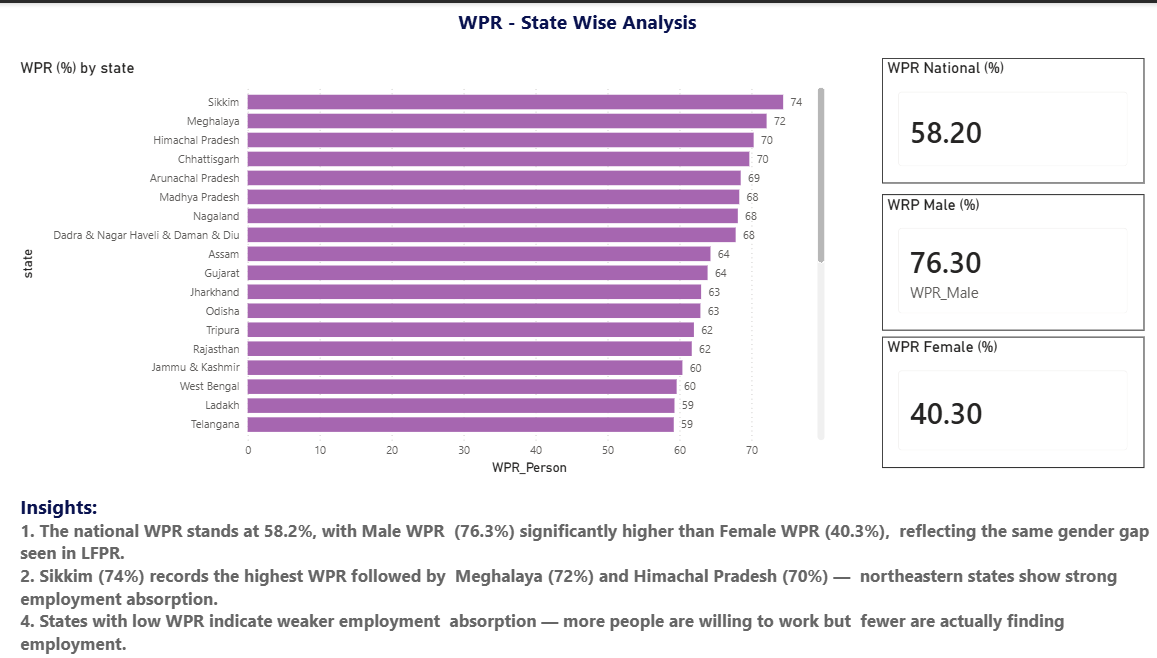

The page's visual inventory and layout, read from the dashboard file:
{"tool":"powerbi","page":{"name":"WPR Analysis","canvas":[1280,720],"ordinal":5},"visuals":[{"type":"textbox","box":[0,0,1280.3,46.7],"z":0},{"type":"barChart","title":"WPR (%) by state","fields":{"Category":["state_data.state"],"Y":["state_data.WPR_Person"]},"box":[20.6,60.4,893.3,462.4],"z":1000},{"type":"cardVisual","title":"WPR National (%)","fields":{"Data":["national_data.WPR_National"]},"box":[971.5,60.4,288.2,137.2],"z":2000},{"type":"cardVisual","title":"WRP Male (%)","fields":{"Data":["national_data.WPR_Male"]},"box":[971.5,209.9,288.2,149.6],"z":3000},{"type":"cardVisual","title":"WPR Female (%)","fields":{"Data":["national_data.WPR_Female"]},"box":[971.5,366.4,288.2,144.1],"z":4000},{"type":"textbox","box":[20.6,532.4,1259.7,188],"z":5000}]}

Visuals, with their boxes in screenshot pixels (x1, y1, x2, y2), scaled from the page's 1280x720 canvas onto the 1157x658 screenshot:
textbox: region(0, 0, 1156, 43)
"WPR (%) by state" barChart: region(19, 55, 826, 478)
"WPR National (%)" cardVisual: region(878, 55, 1139, 181)
"WRP Male (%)" cardVisual: region(878, 192, 1139, 329)
"WPR Female (%)" cardVisual: region(878, 335, 1139, 467)
textbox: region(19, 487, 1156, 657)
